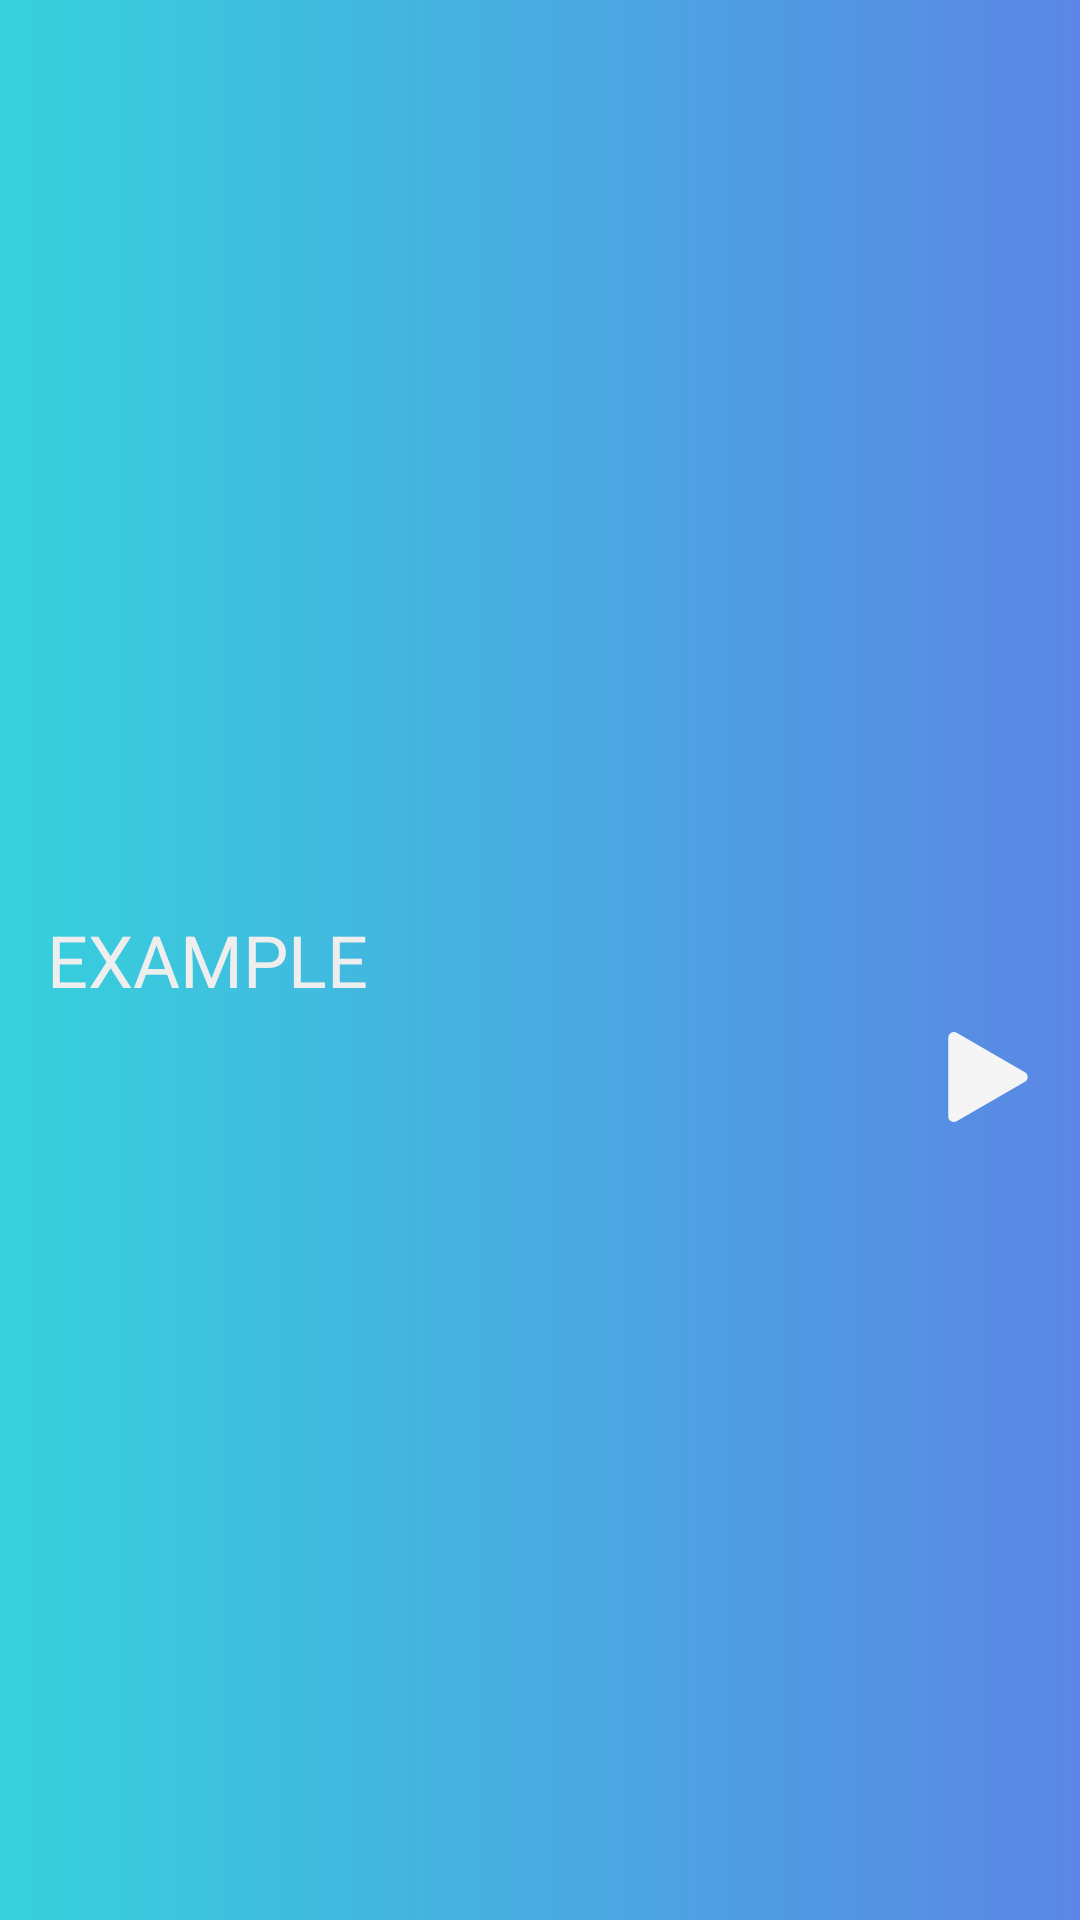

Icons on this 1080 × 1920 Android screen, each with its box as detection(x1, y1, x2, y2):
play: detection(948, 1032, 1028, 1122)
